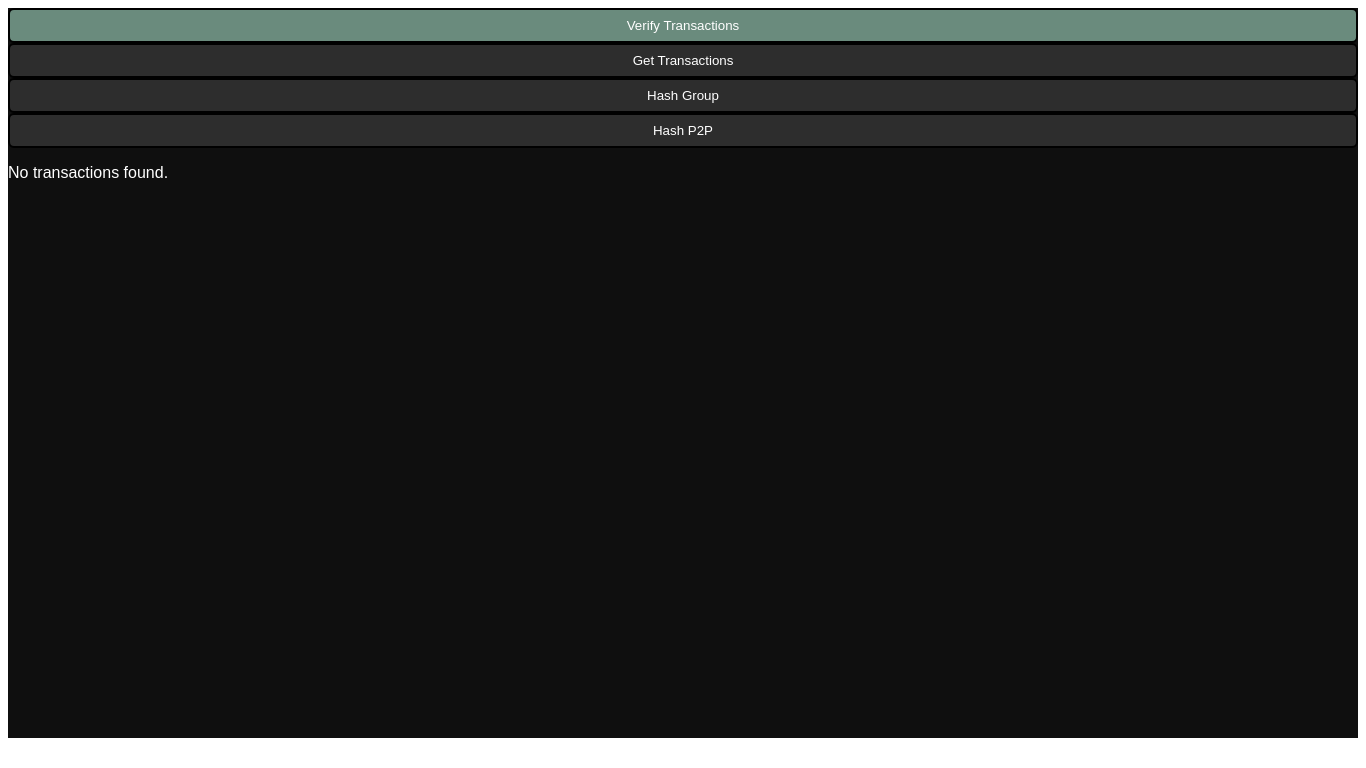
Test: RequestInterface › should verify p2p hash when both users are selected
Click the button "Hash P2P" at x=683, y=130, box [8, 113, 1358, 148]
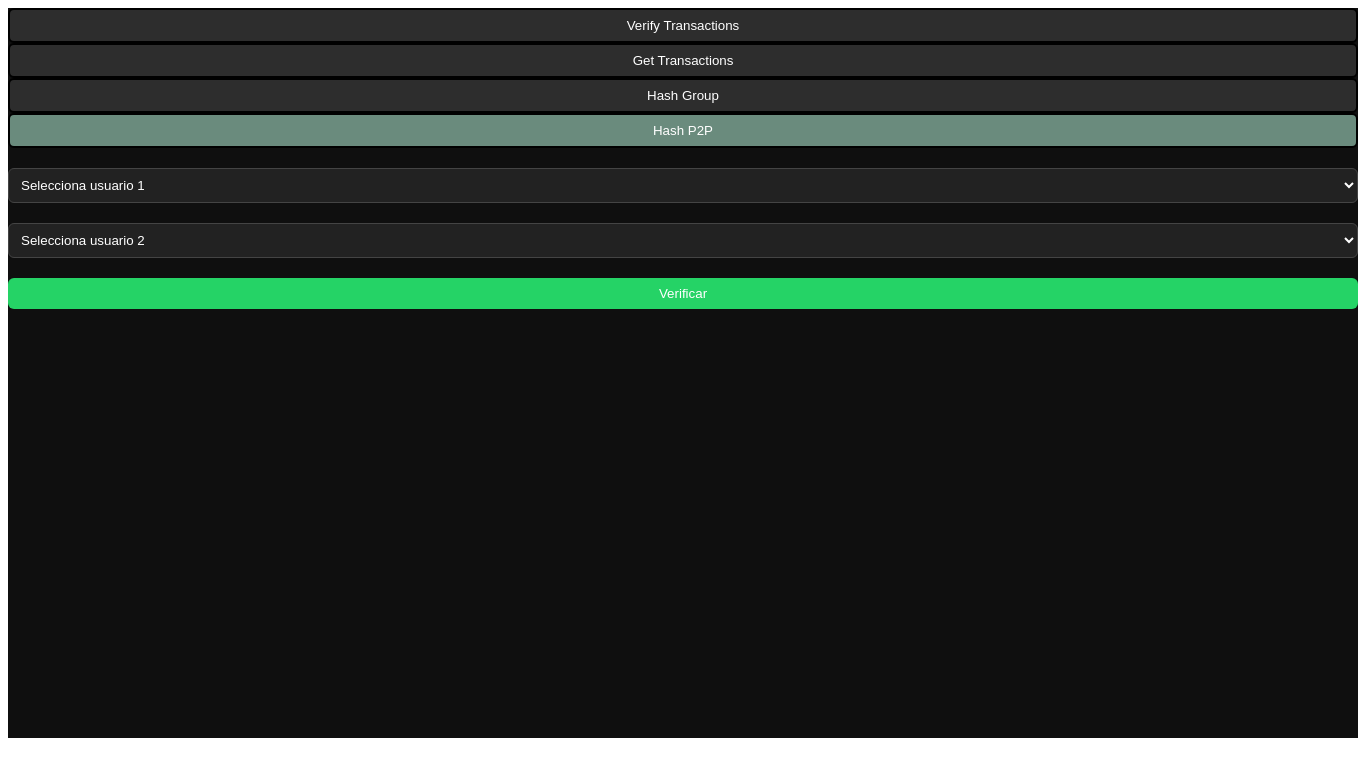
Select "user1@test.com" in the 1st dropdown at x=683, y=186, box [8, 168, 1358, 203]
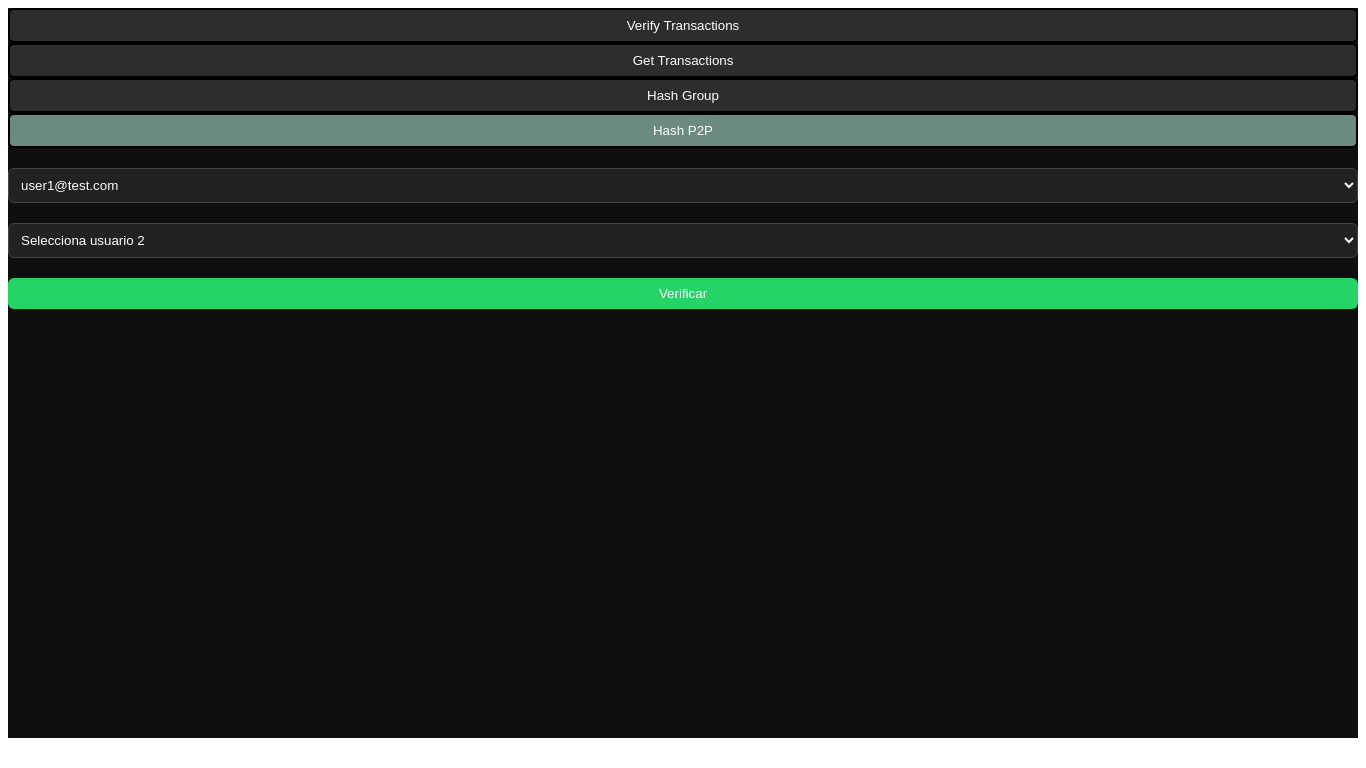
Select "user2@test.com" in the 2nd dropdown at x=683, y=240, box [8, 223, 1358, 258]
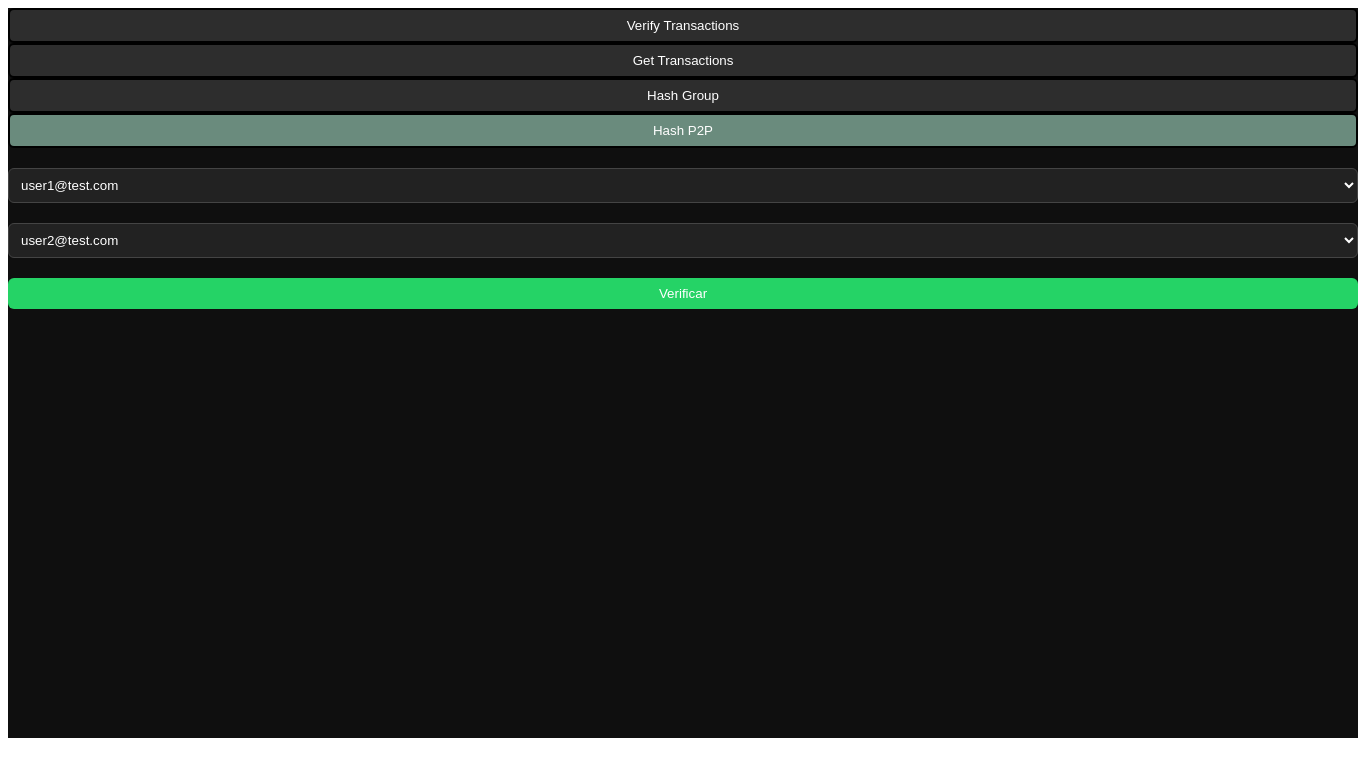
Click the button "Verificar" at x=683, y=294, box [8, 278, 1358, 309]
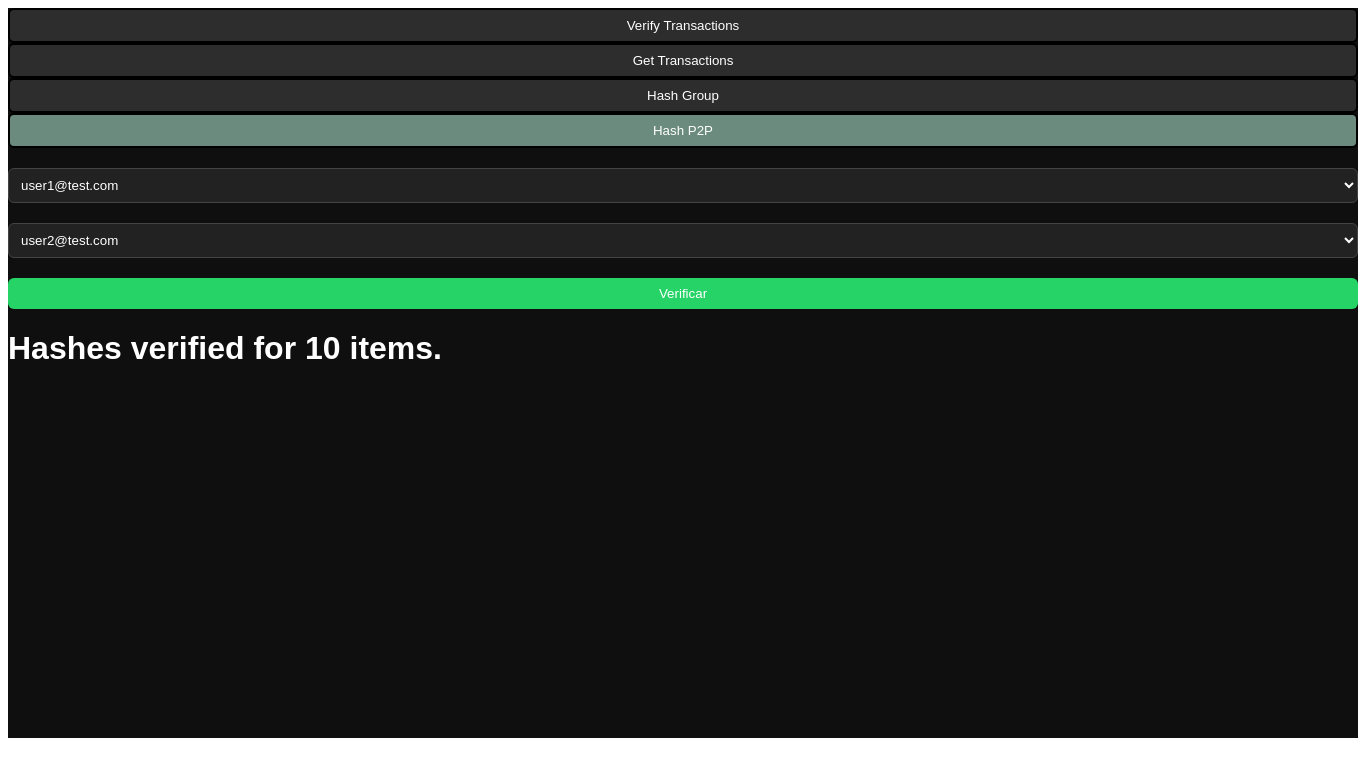
expect the heading "Hashes verified for 10 items." is shown: met, box [8, 330, 442, 366]
